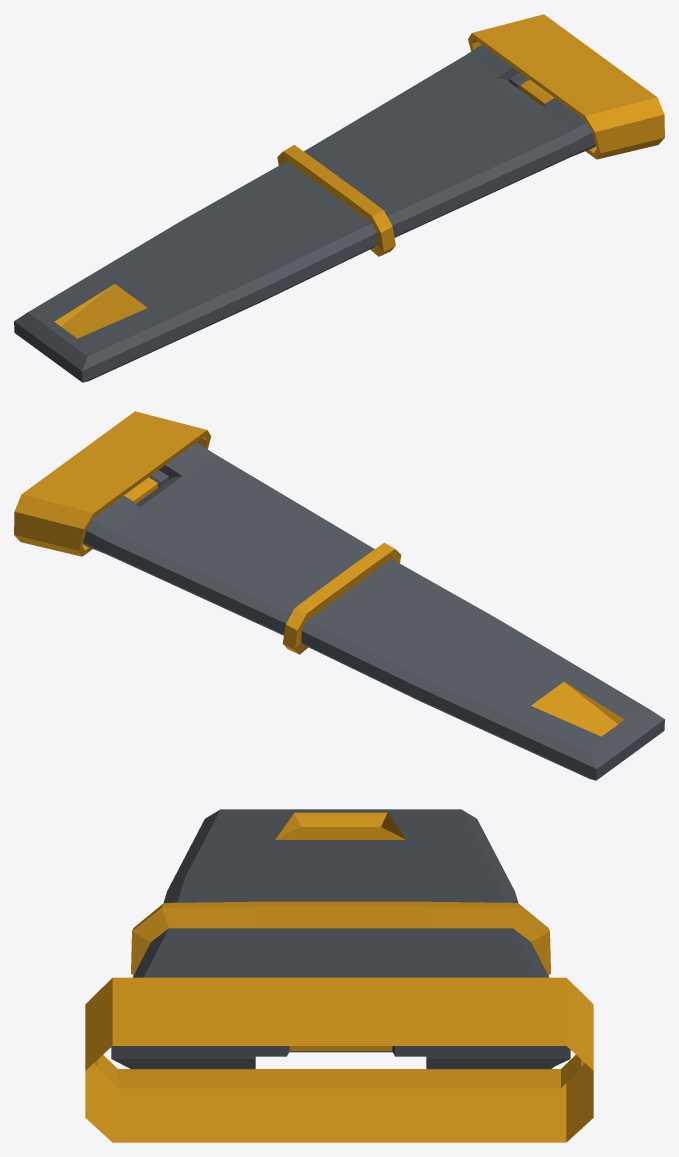
Rendered from Fighter_04_Small_Wing_Right_Yellow.fbx.
3 views of the same model, one above another, from view 1: azimuth 30°, elevation 25°; view 2: azimuth 150°, elevation 25°; view 3: azimuth 270°, elevation 25° (orthographic). The views are drawn at different scales.
Parts seen in each view (by area): view 1: Fighter_04_Small_Wing_Right_Yellow; view 2: Fighter_04_Small_Wing_Right_Yellow; view 3: Fighter_04_Small_Wing_Right_Yellow.
Boxes of the visible parts, x1,y1,x2,y2 form: Fighter_04_Small_Wing_Right_Yellow: (14, 14, 664, 382); Fighter_04_Small_Wing_Right_Yellow: (14, 411, 664, 780); Fighter_04_Small_Wing_Right_Yellow: (85, 809, 593, 1142).
Bounding box in the file's own units: 488 × 145 × 194.
1 material, 1 textured.
